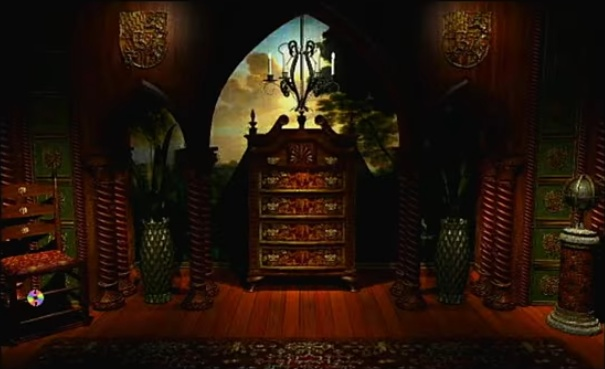Waiting: (24, 286, 46, 308)
